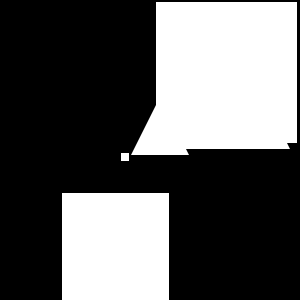circle: (156, 2, 297, 143), (62, 193, 169, 300), (121, 153, 129, 161)
triangle: (145, 4, 290, 149), (131, 97, 189, 155)
